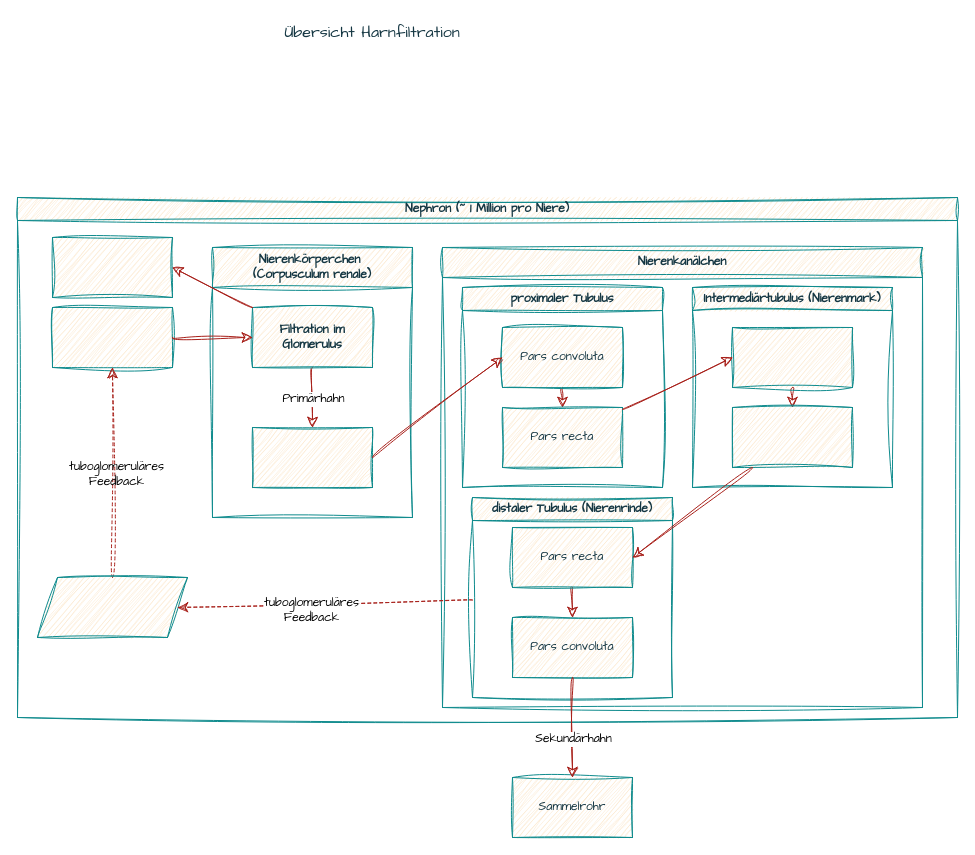
Image size: 975x855. Some labels were removed from this diagram. Here are the shapes that lost their labels. From the top down, the centre of each, then its label:
the point at 112,267: abführende Nierenarteriole (Vas efferens)
the point at 112,337: zuführende Nierenarteriole (Vas afferens)
the point at 792,357: Pars descendens
the point at 312,457: Harnpol
the point at 792,437: Pars ascendens
the point at 112,607: Juxtaglomerulärer Apparat
